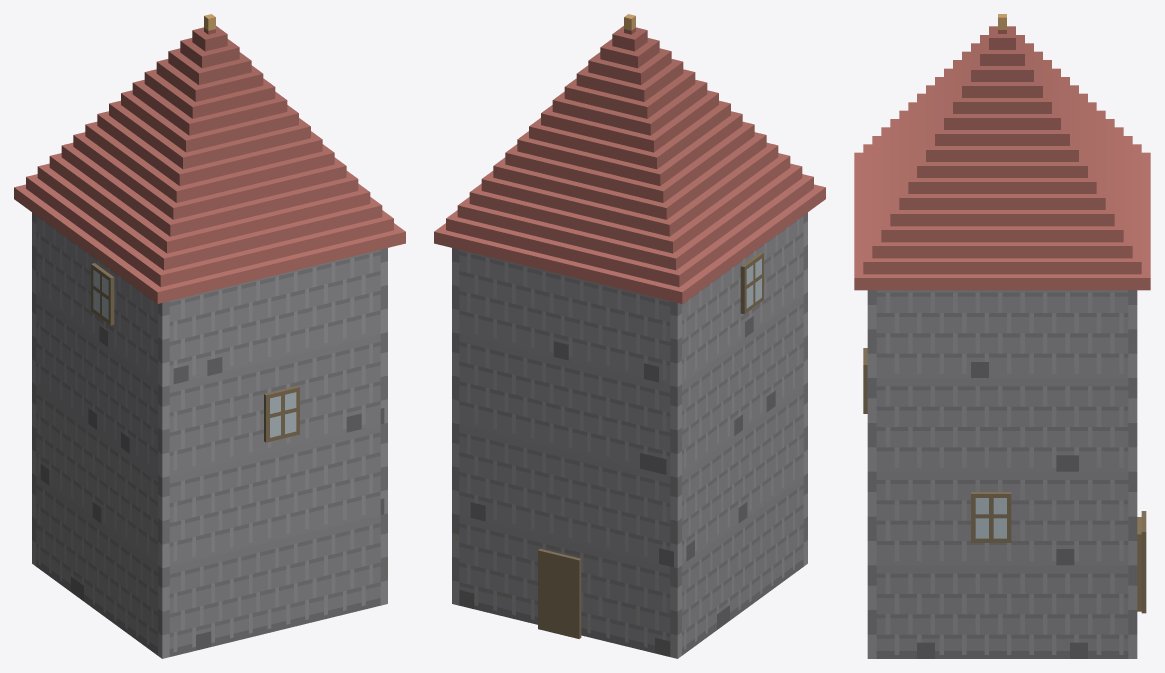
Rendered from faro_02.glb.
The picture shows the model from 3 angles, left to right: view 1: azimuth 30°, elevation 25°; view 2: azimuth 150°, elevation 25°; view 3: azimuth 270°, elevation 25°; orthographic projection. The views are drawn at different scales.
Visible parts, largest first — view 1: faro_02; view 2: faro_02; view 3: faro_02.
Part boxes in pixels (bbox=[...]): faro_02: bbox=[14, 14, 405, 658]; faro_02: bbox=[434, 14, 825, 658]; faro_02: bbox=[854, 14, 1150, 658].
Size of the model in its own units: 6.6 by 14.4 by 6.6.
